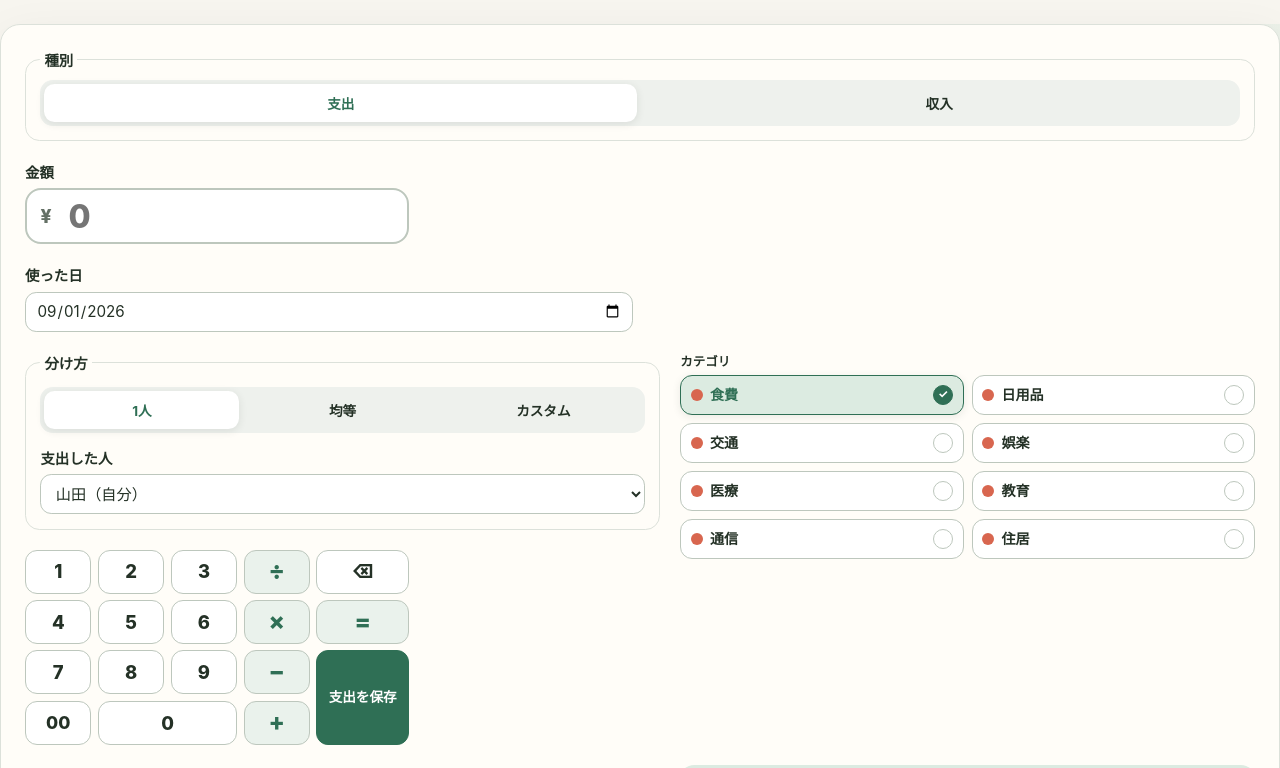
Test: ExpenseForm の金額テンキー (TXN-014) › 1文字削除で末尾の桁だけを取り消す (AC-TXN-014-1)
Click the button "3" at (204, 572), box [171,550,237,594]
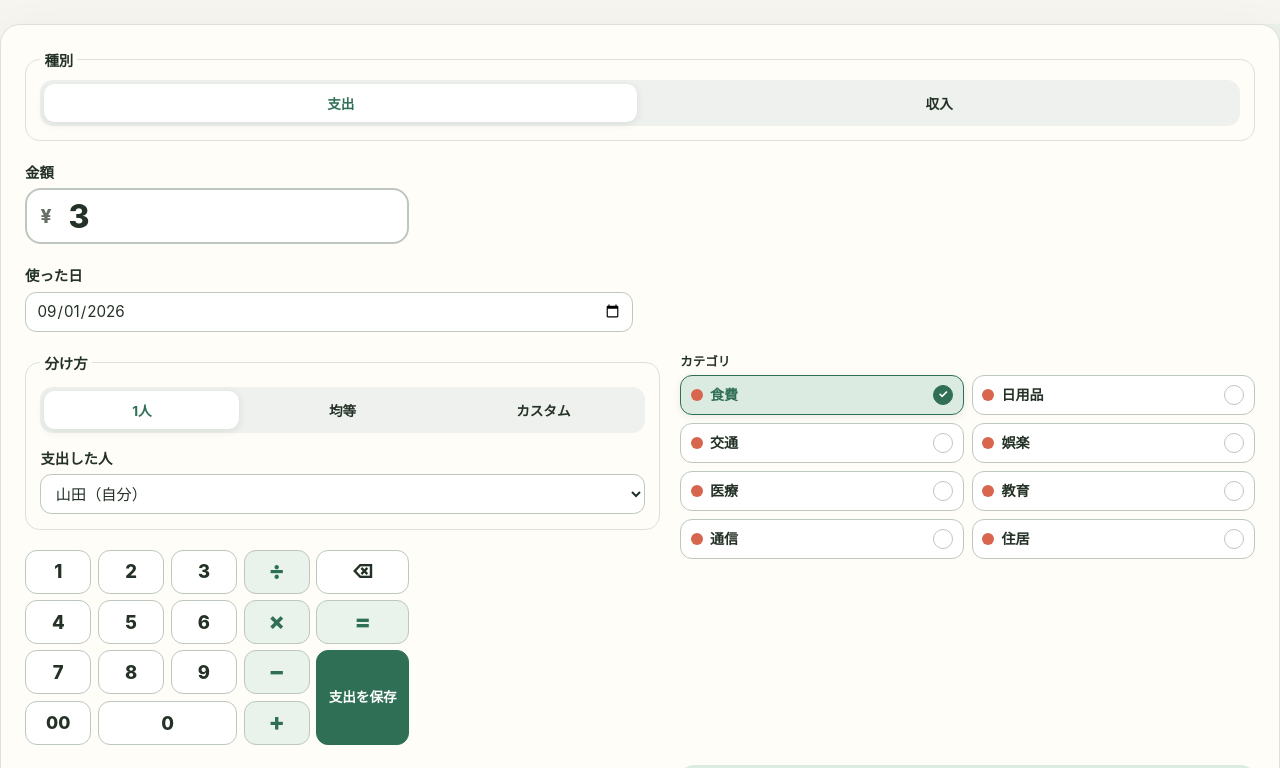
Click the button "5" at (131, 622), box [98,600,164,644]
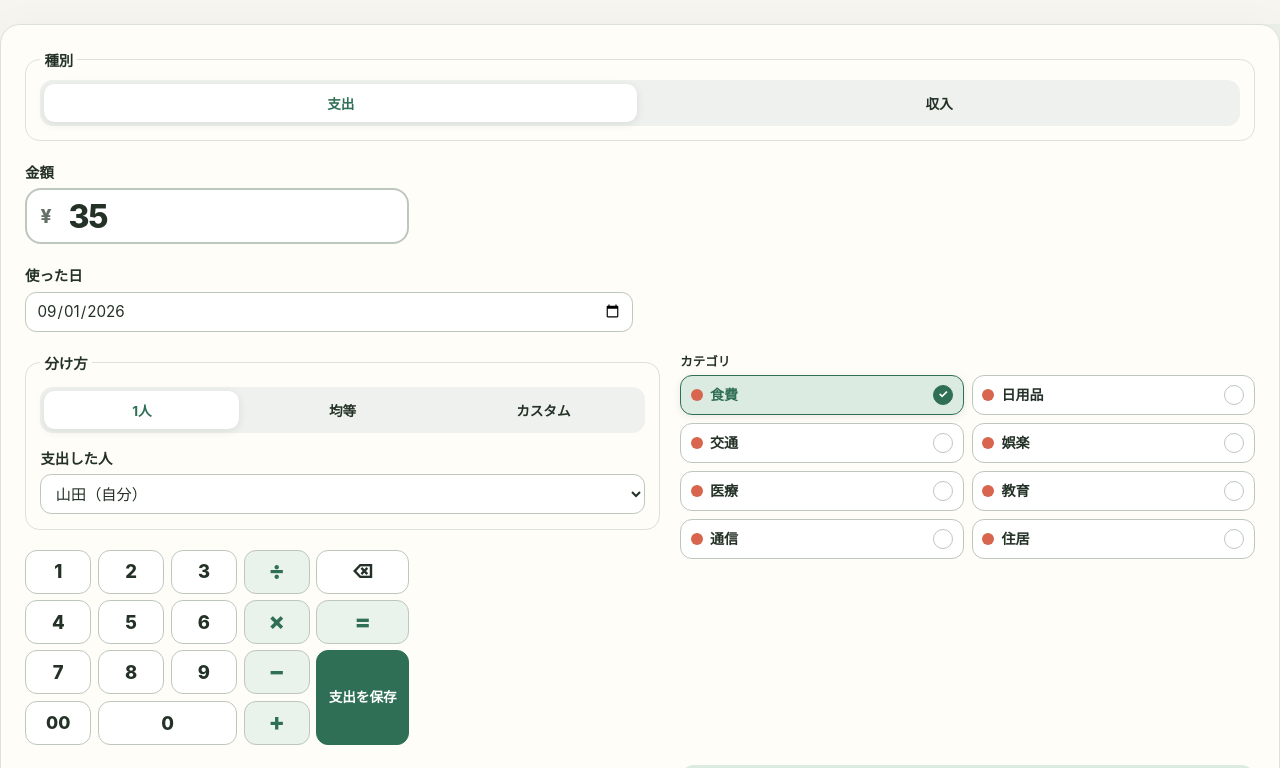
Click the button named "1桁削除" at (363, 572), box [316,550,409,594]
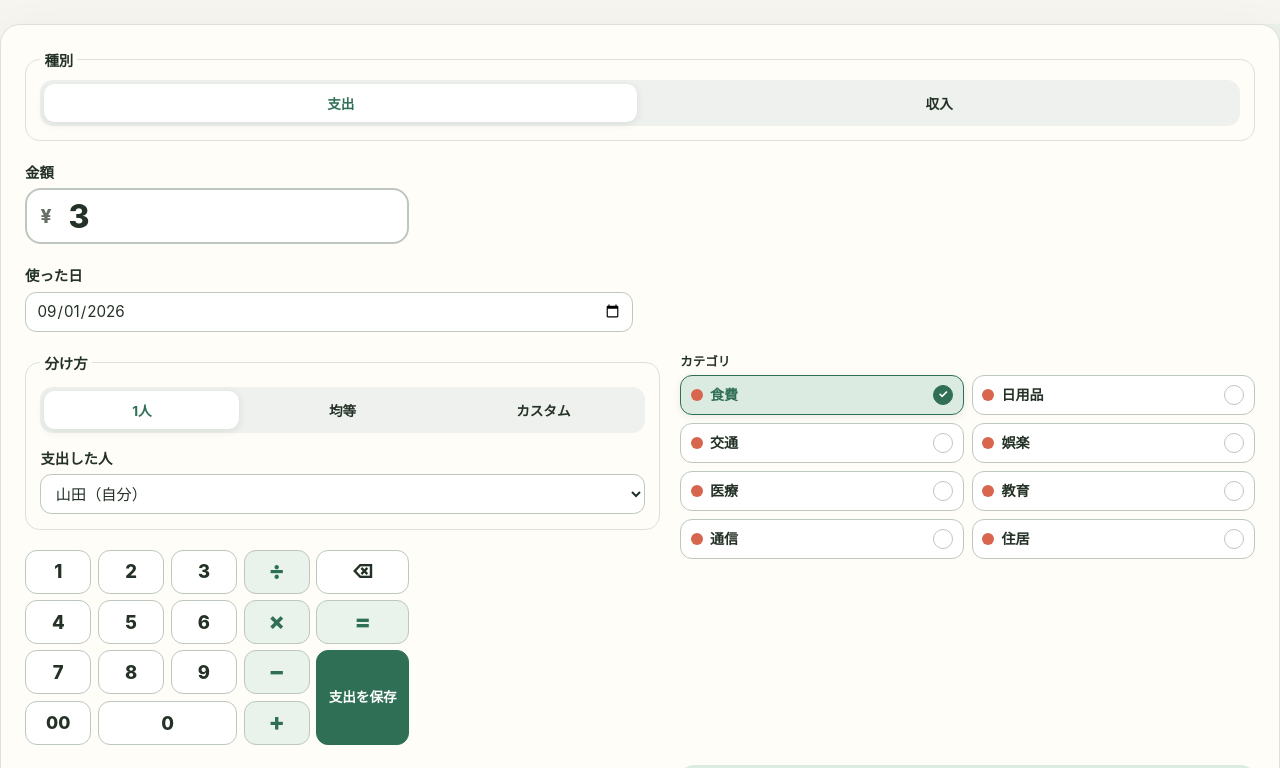
Check: the field labelled "金額" holds "3", box [58,190,393,242]
